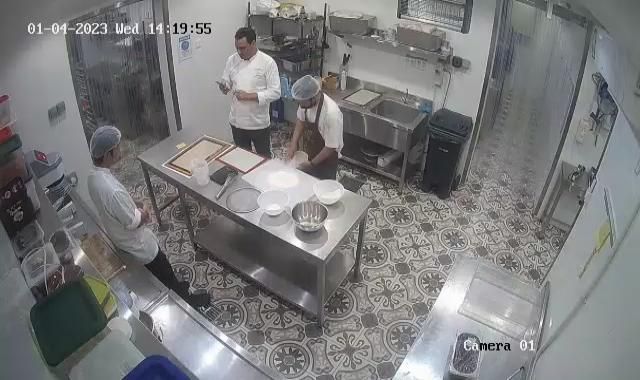hairnet: (88, 125, 125, 156), (291, 76, 324, 108)
no_hairnet: (233, 27, 257, 52)
